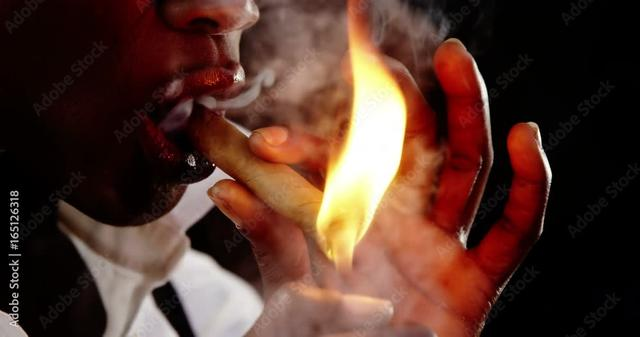Cigar: (189, 106, 371, 258)
